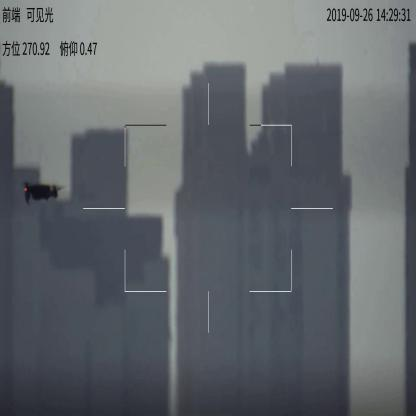uav: (16, 180, 66, 208)
